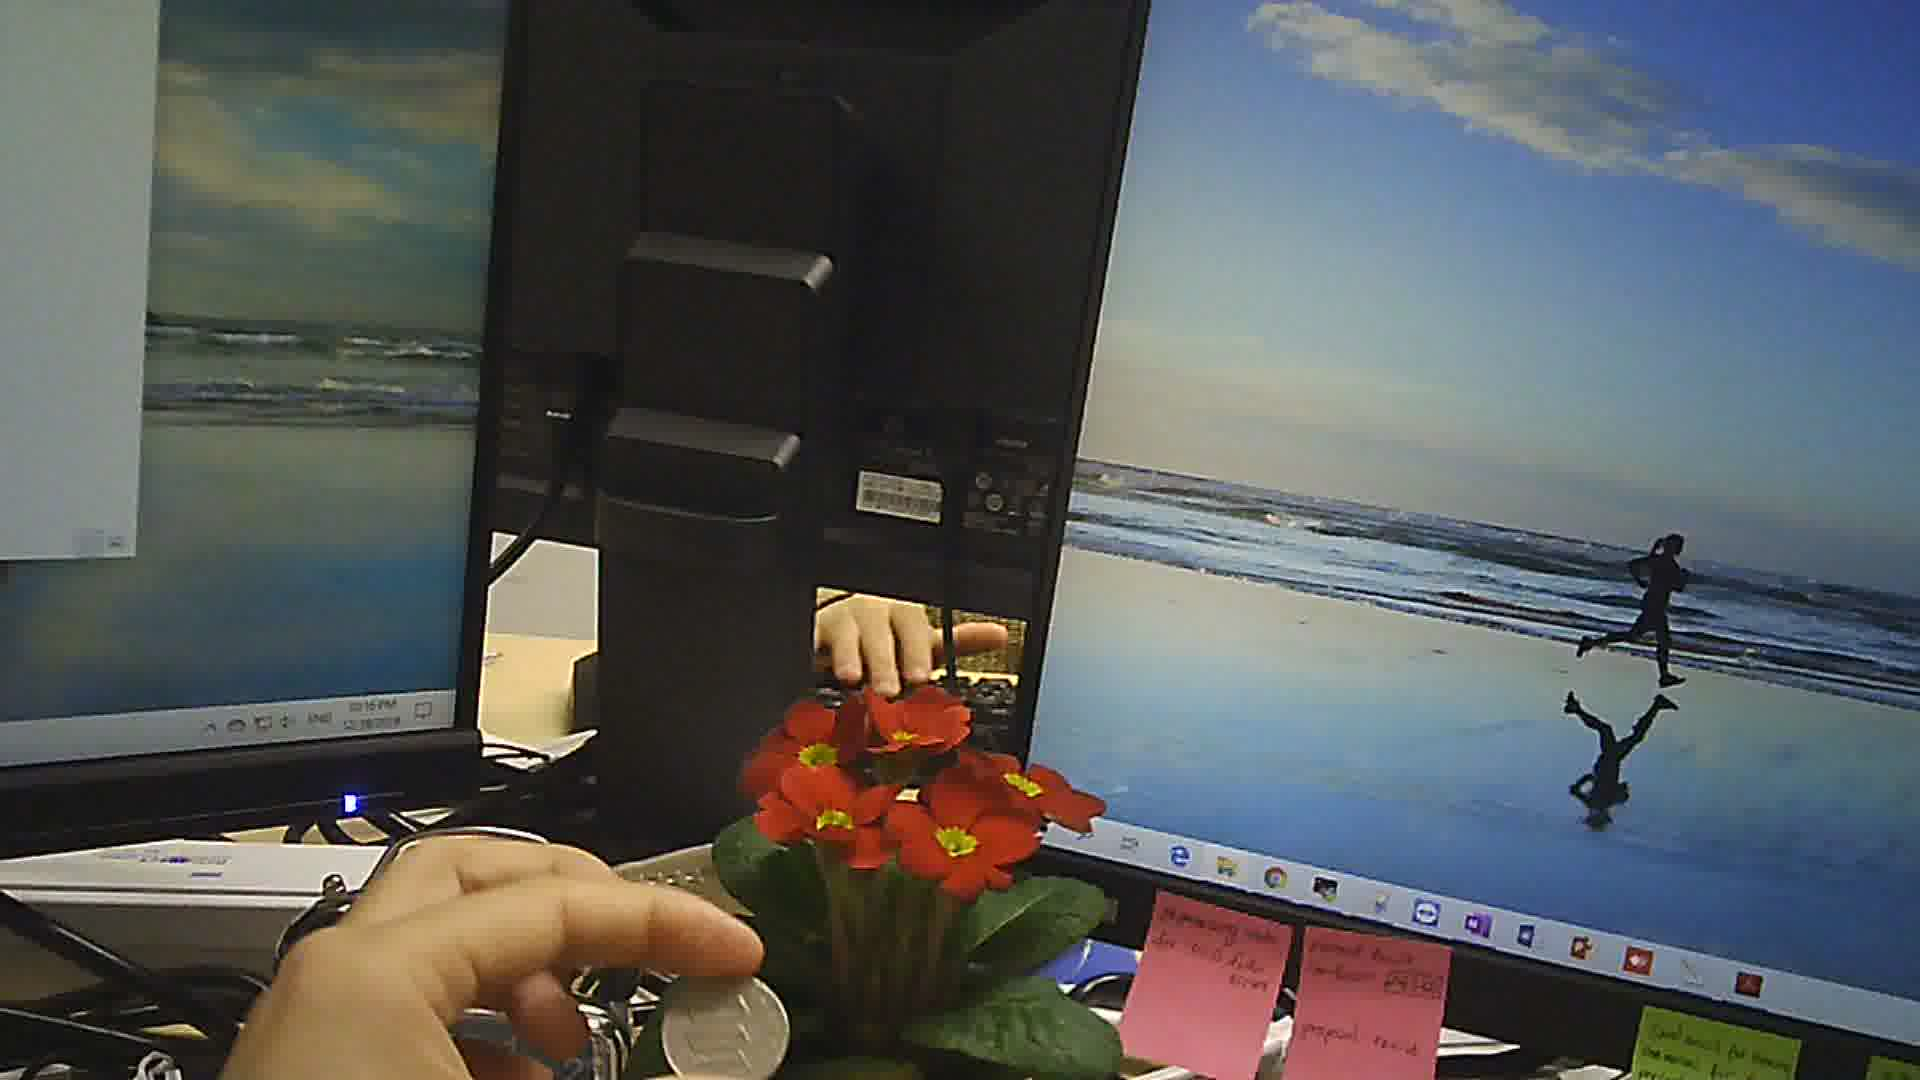100 Yen: (651, 951, 799, 1079)
